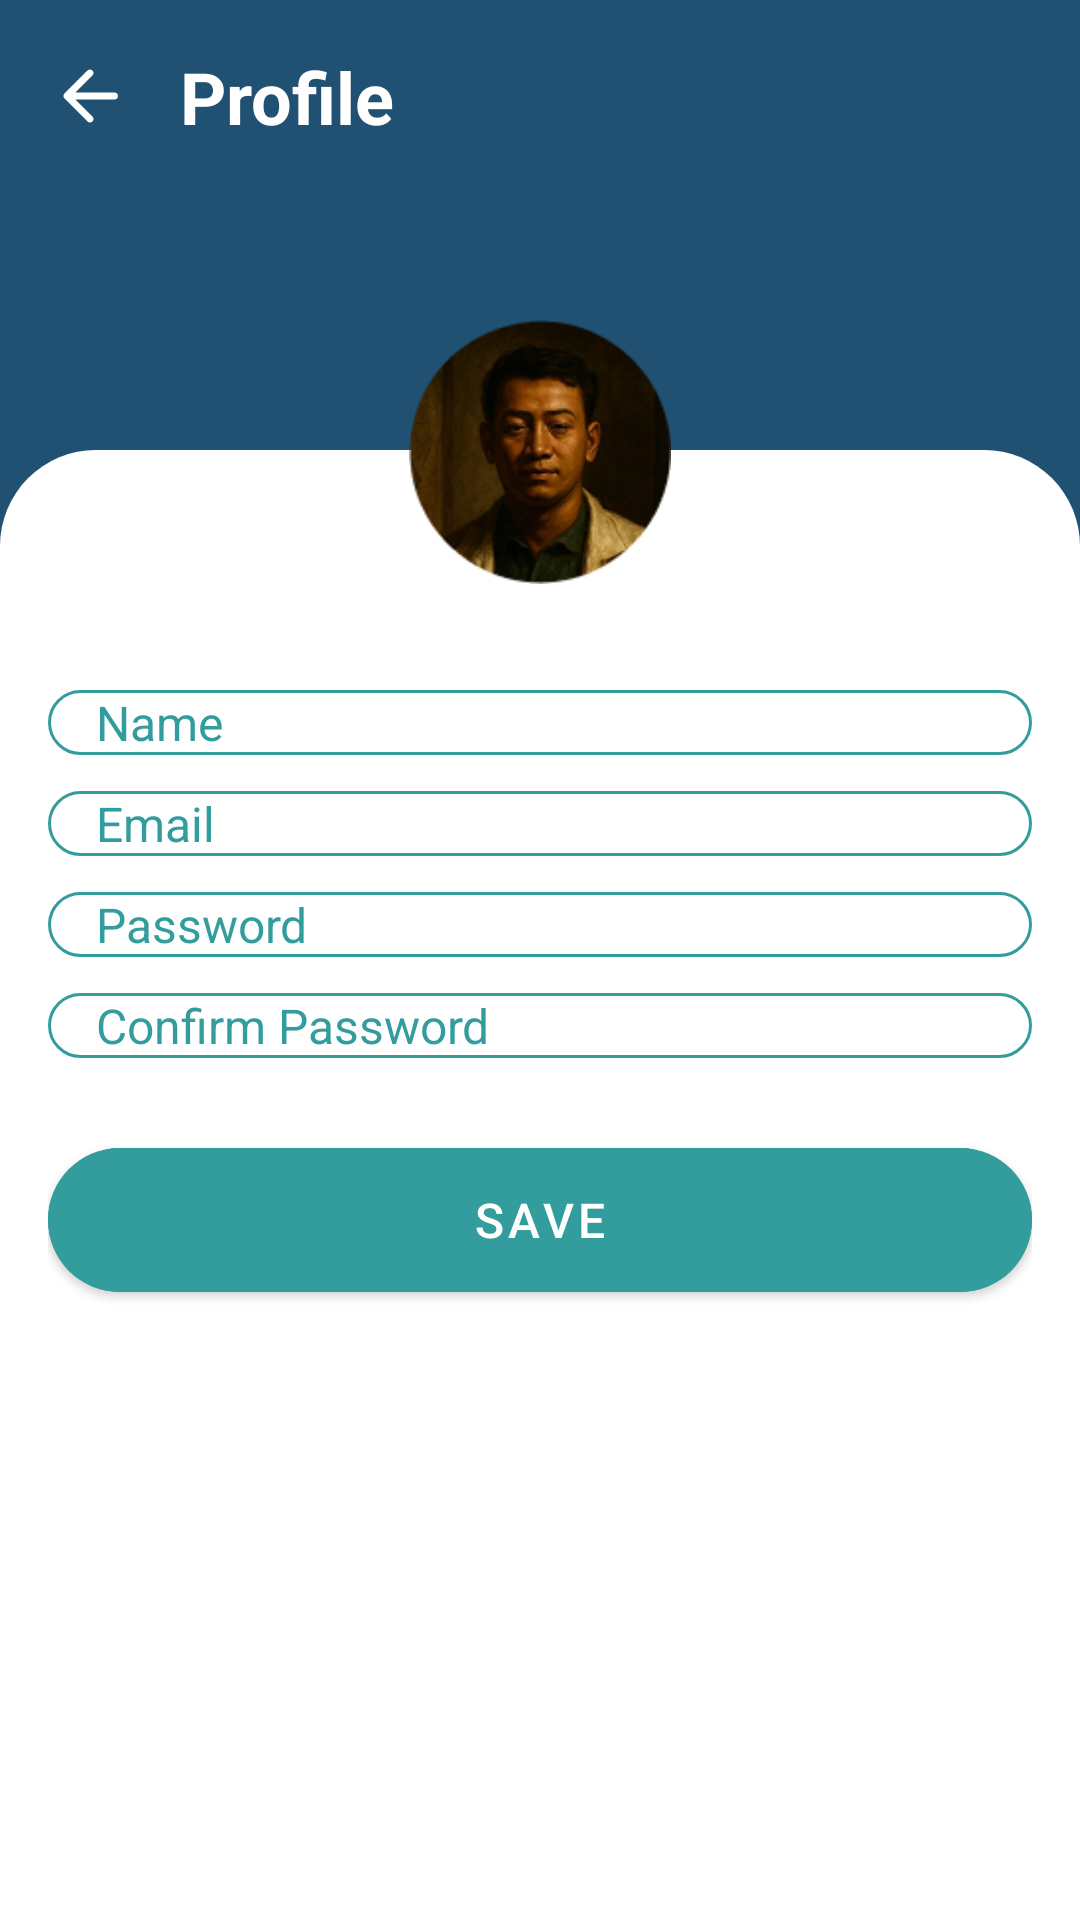

Icon click points for this 1080*1920 phone screenshot, format [x,y]:
arrow back: [90,96]
